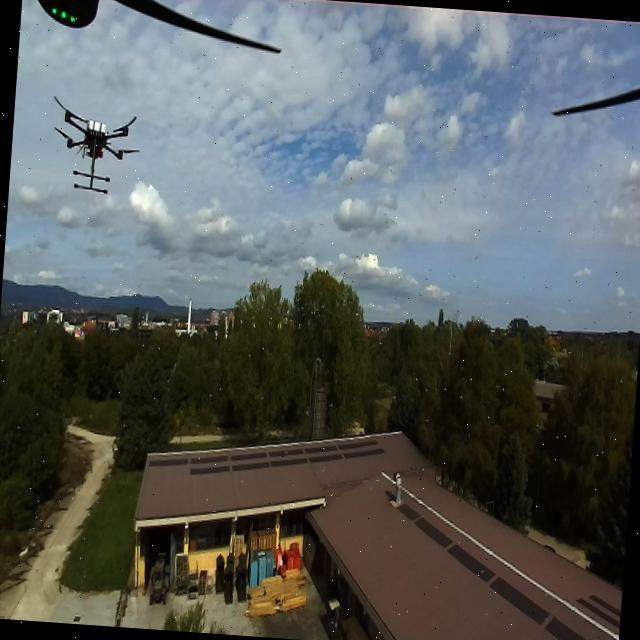drone: (41, 81, 153, 205)
